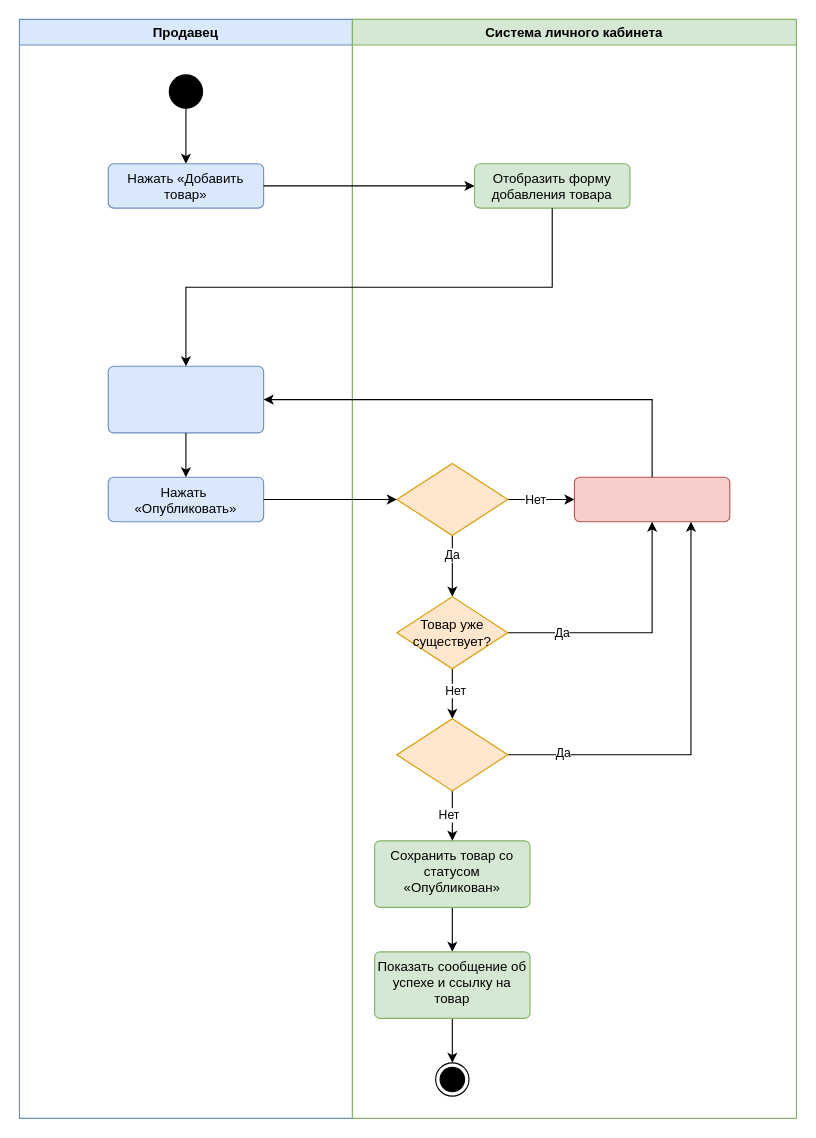
The diagram is 816 pixels wide and 1138 high, and some of its shapes have lost their labels. Here are the shapes that lost their labels. From the top down, the centre of each, then its label:
At (x=185, y=399): "Заполнить обязательные поля и загрузить фото".
At (x=452, y=499): "Данные корректны?".
At (x=651, y=499): "Показать ошибку валидации".
At (x=452, y=754): "Лимит превышен?".
